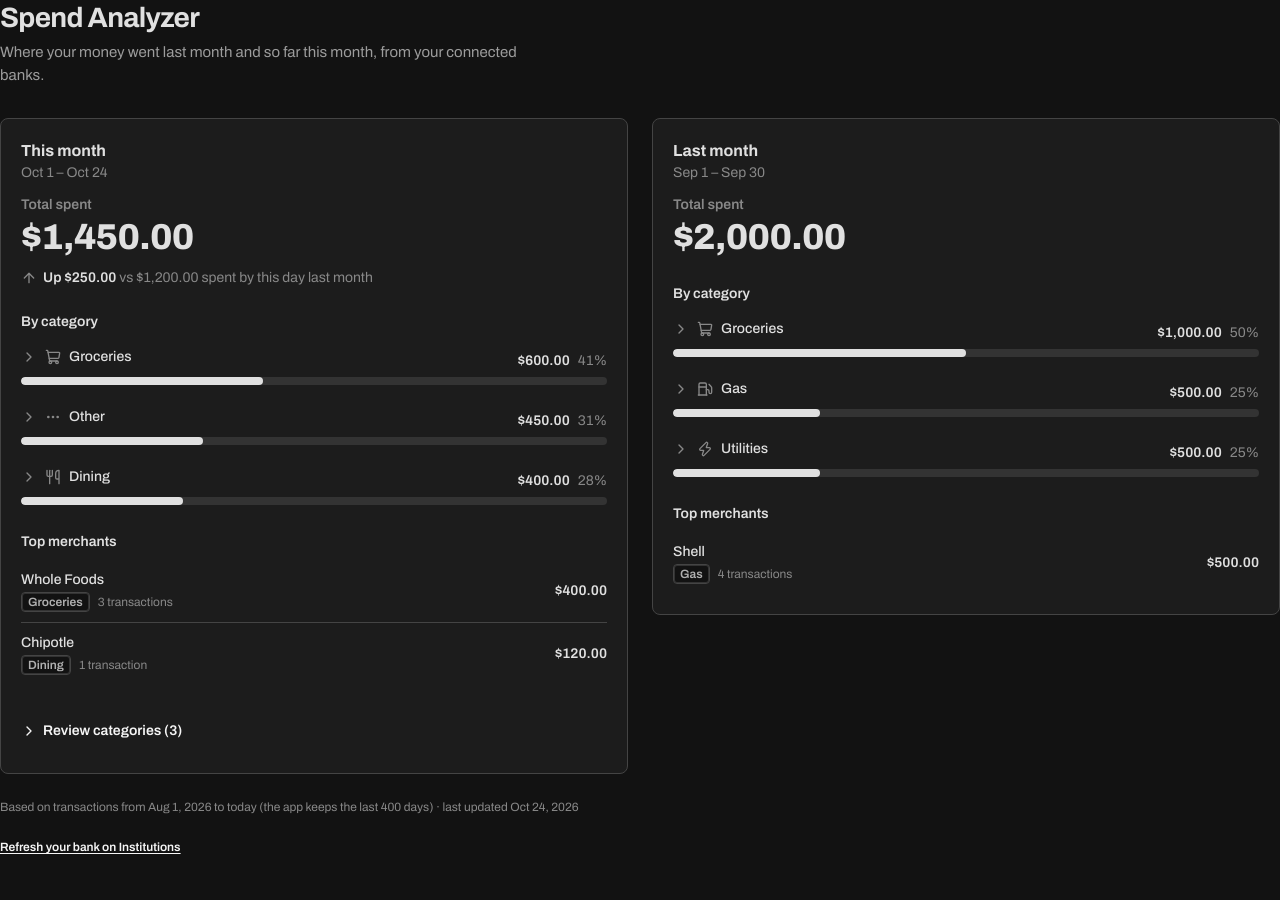
SpendingView › changing categories › offers a reset to automatic for a category the user set or taught, never a merchant switch without a name
Click the button with test id "spending-transactions-toggle-this-month". click: (102, 731)
box: [21,709,182,753]
(page scrolled)
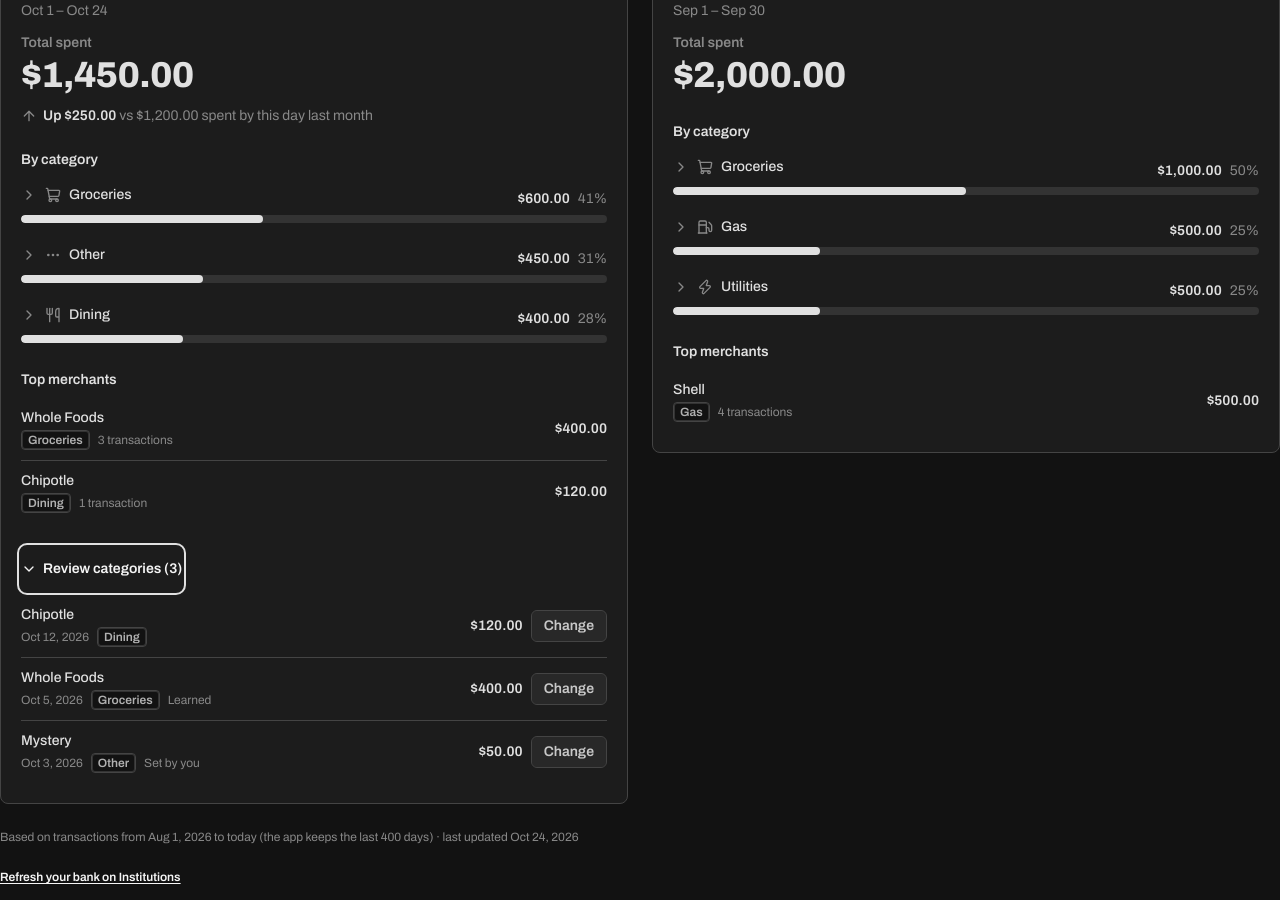
Click the button with test id "spending-transaction-edit". click: (569, 752)
box: [531,736,607,768]
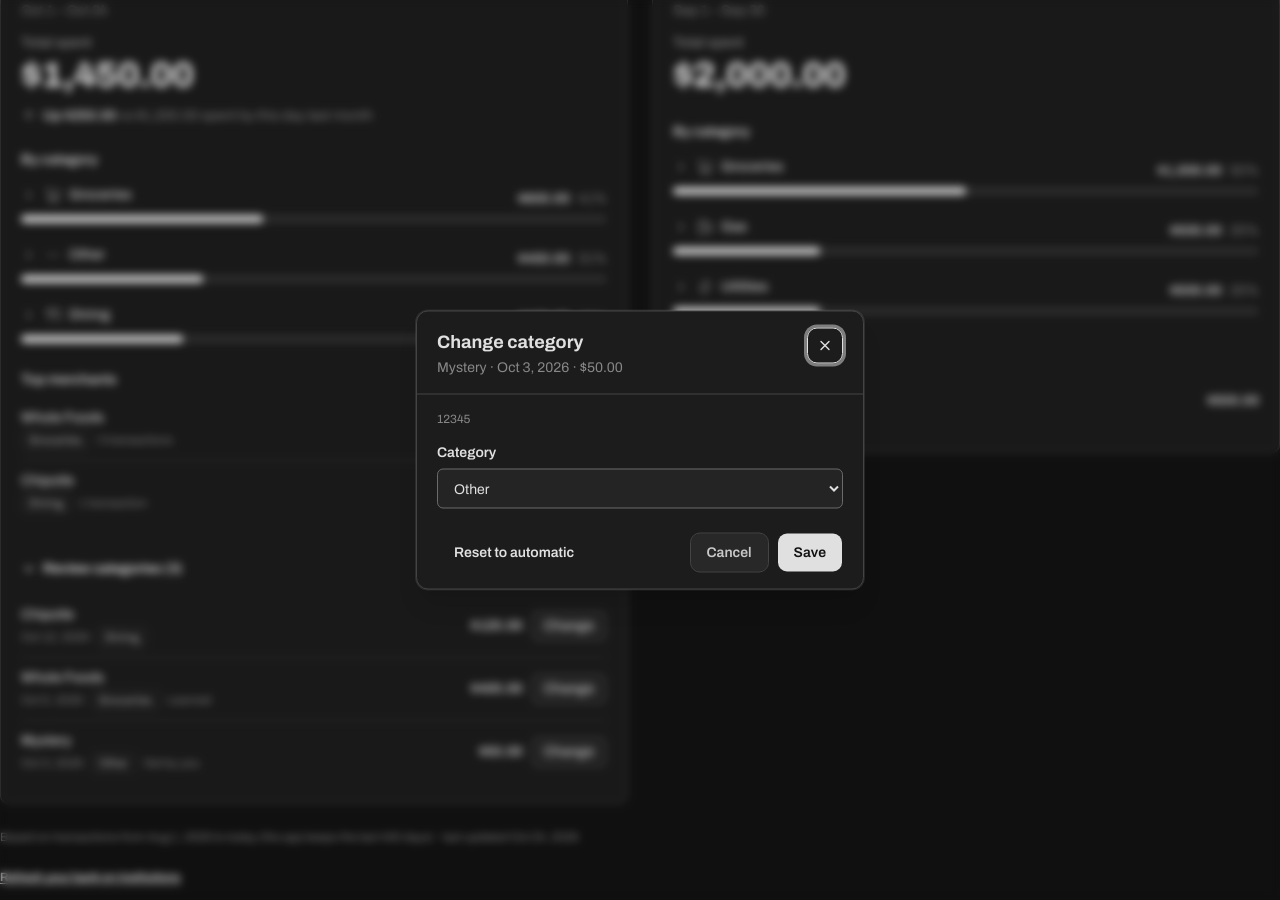
Click the button with test id "category-reset". click: (514, 552)
box: [437,532,591,572]
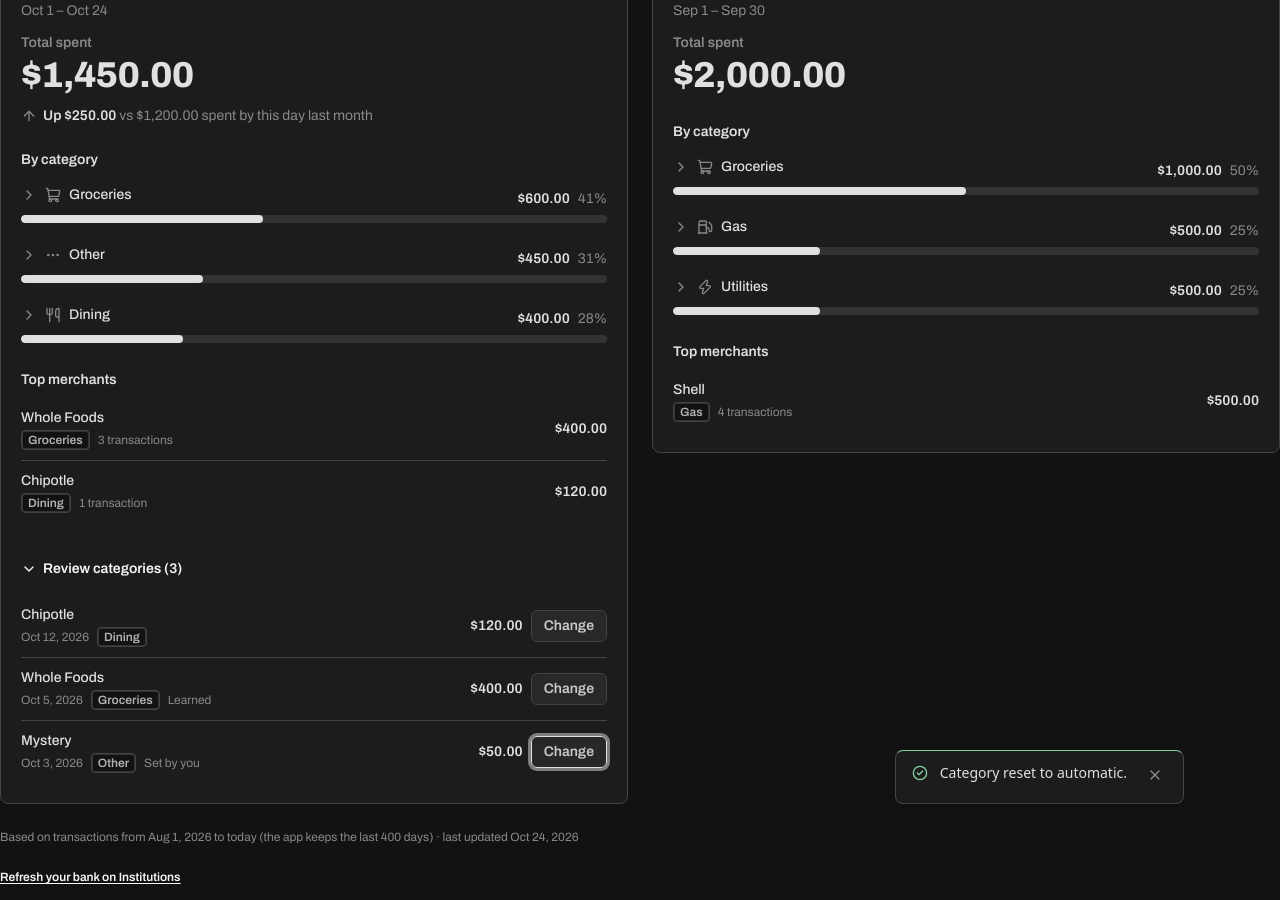
Result: the dialog with test id "category-dialog" is gone
